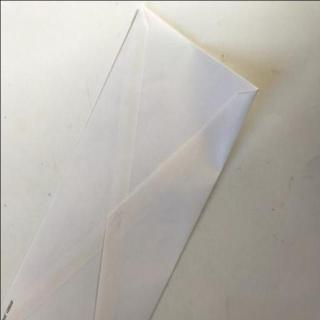Anorganik: (2, 3, 258, 320)
